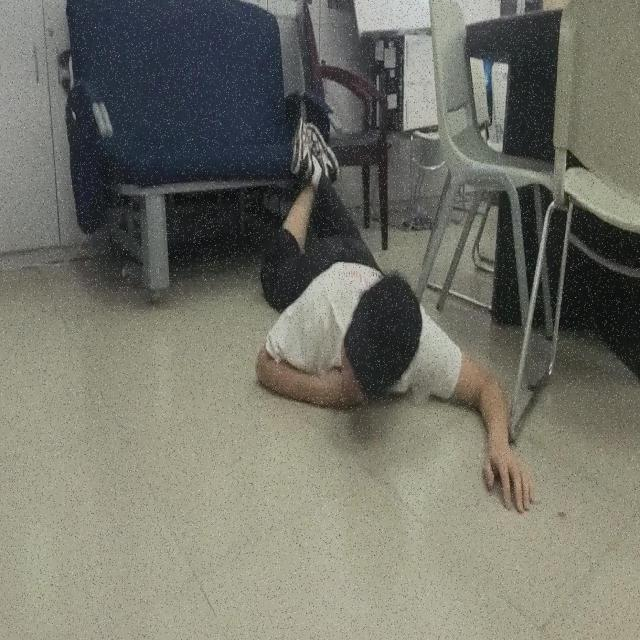fall: (253, 98, 536, 518)
